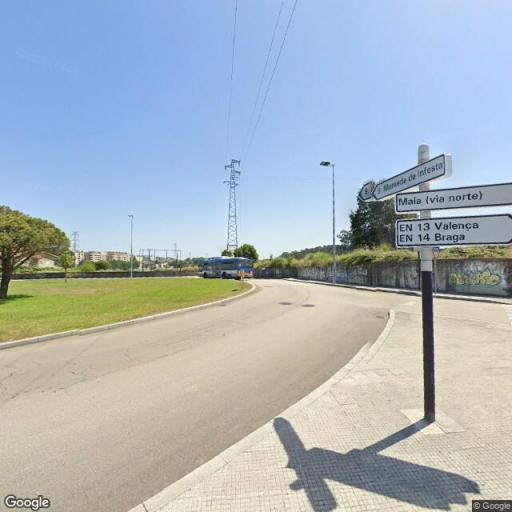ss_4: (224, 157, 242, 262)
